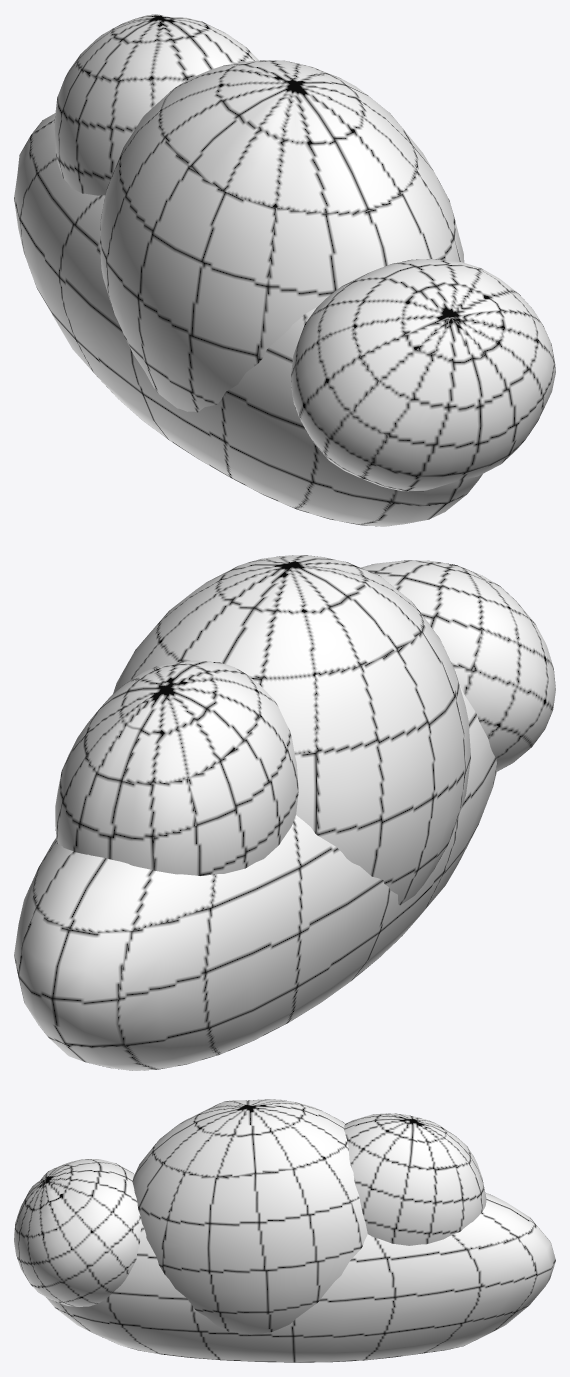
Rendered from Cloud.obj.
3 views of the same model, one above another, from view 1: azimuth 30°, elevation 25°; view 2: azimuth 150°, elevation 25°; view 3: azimuth 270°, elevation 25° (orthographic). The views are drawn at different scales.
Parts seen in each view (by area): view 1: sphere9; view 2: sphere9; view 3: sphere9.
Boxes of the visible parts, x1,y1,x2,y2 form: sphere9: [14, 14, 555, 526]; sphere9: [14, 555, 555, 1070]; sphere9: [14, 1099, 555, 1362].
Size of the model in its own units: 2.88 by 3.49 by 7.25.
1 material, 1 textured.
